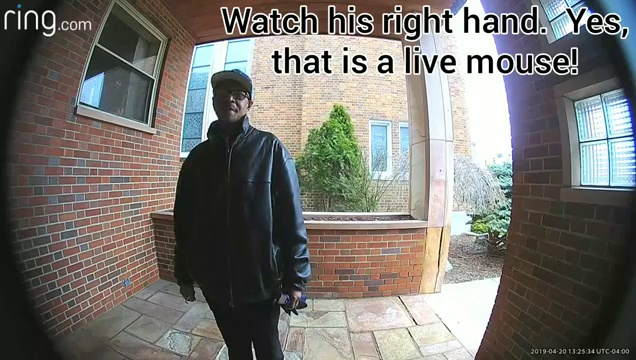face: (213, 83, 246, 118)
